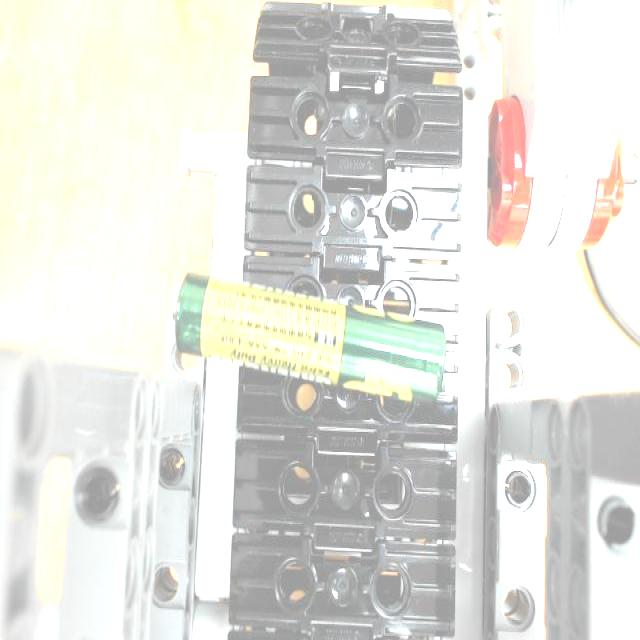AAA: (154, 270, 448, 414)
